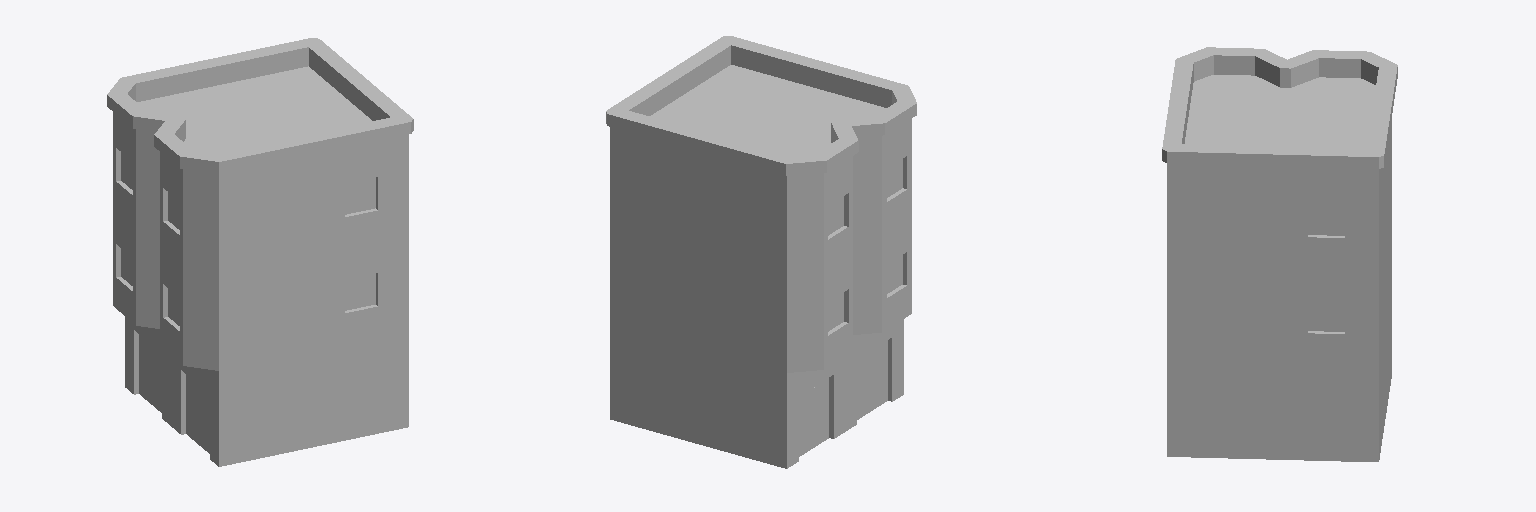
File: variant_12.obj
The picture shows the model from 3 angles: view 1: azimuth 30°, elevation 25°; view 2: azimuth 150°, elevation 25°; view 3: azimuth 270°, elevation 25°; orthographic projection.
Parts seen in each view (by area): view 1: small_buildingA; view 2: small_buildingA; view 3: small_buildingA.
Boxes of the visible parts, x1,y1,x2,y2 form: small_buildingA: [107, 38, 413, 466]; small_buildingA: [606, 36, 916, 468]; small_buildingA: [1162, 47, 1397, 461].
Size of the model in its own units: 0.9826 by 1.28 by 0.8891.